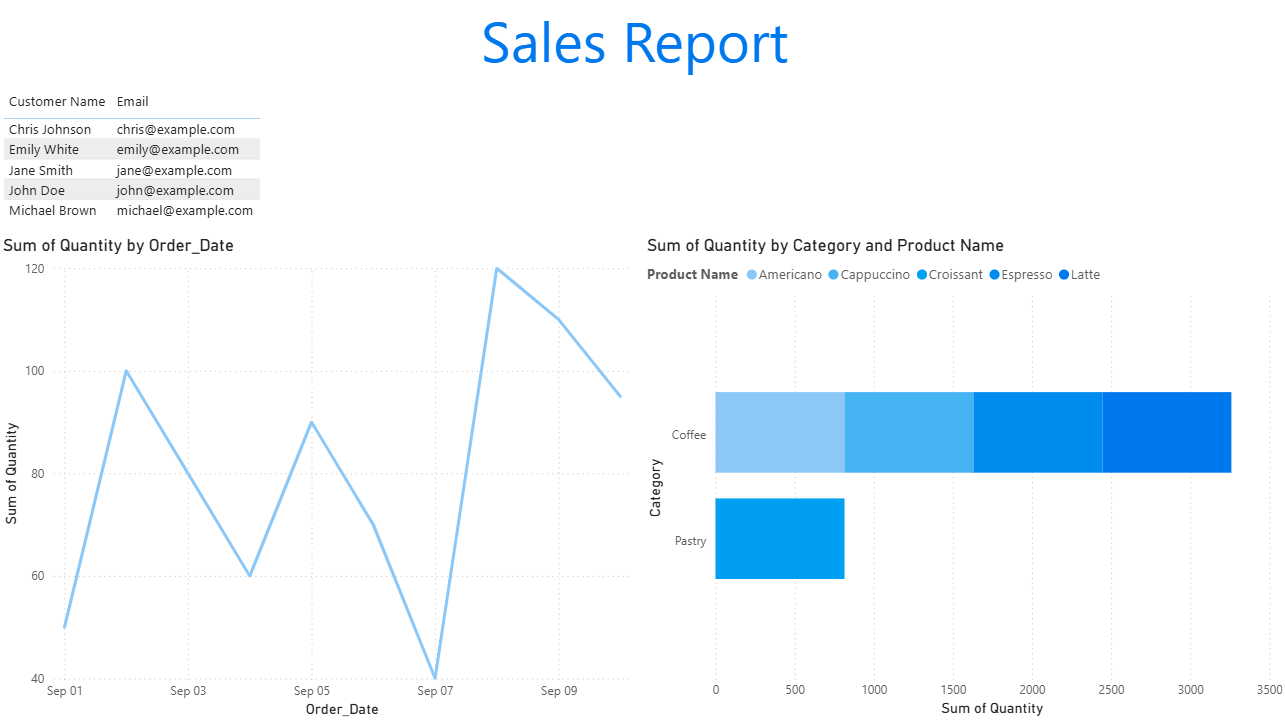

The dashboard page shown, as its layout file describes it:
{"tool":"powerbi","page":{"name":"Sales Report","canvas":[1280,720],"ordinal":1},"visuals":[{"type":"textbox","box":[474.7,0,331.7,88.5],"z":0},{"type":"tableEx","fields":{"Values":["Customers.Customer Name","Customers.Email"]},"box":[0,88.5,273.3,147.8],"z":1},{"type":"lineChart","fields":{"Y":["Sum(Orders.Quantity)"],"Category":["Orders.Order_Date"]},"box":[0,236.4,641,483.4],"z":2},{"type":"barChart","fields":{"Y":["Sum(Orders.Quantity)"],"Category":["Products.Category"],"Series":["Products.Product Name"]},"box":[639,236.4,641,483.4],"z":3}]}

Visuals, with their boxes in screenshot pixels (x1, y1, x2, y2), scaled from the page's 1280x720 canvas onto the 1285x722 screenshot:
textbox: <bbox>477, 0, 810, 89</bbox>
tableEx - Customers.Customer Name x Customers.Email: <bbox>0, 89, 274, 237</bbox>
lineChart - Sum(Orders.Quantity) x Orders.Order_Date: <bbox>0, 237, 644, 721</bbox>
barChart - Sum(Orders.Quantity) x Products.Category: <bbox>641, 237, 1284, 721</bbox>
